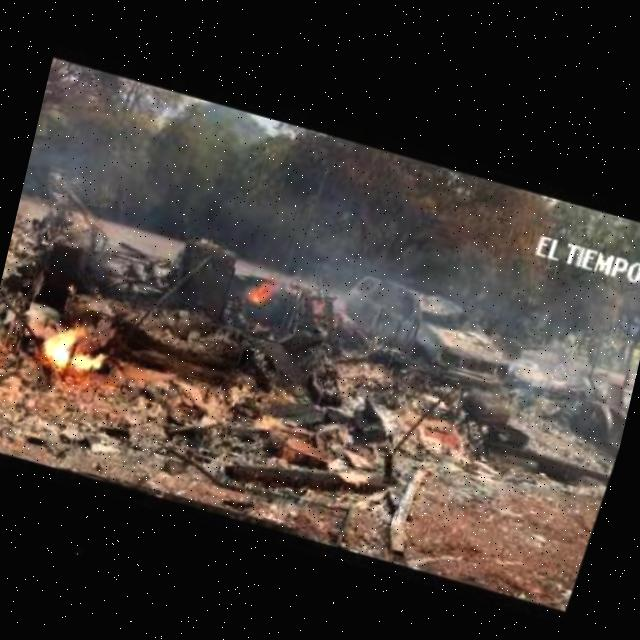fire: (47, 320, 123, 380), (248, 274, 279, 303)
